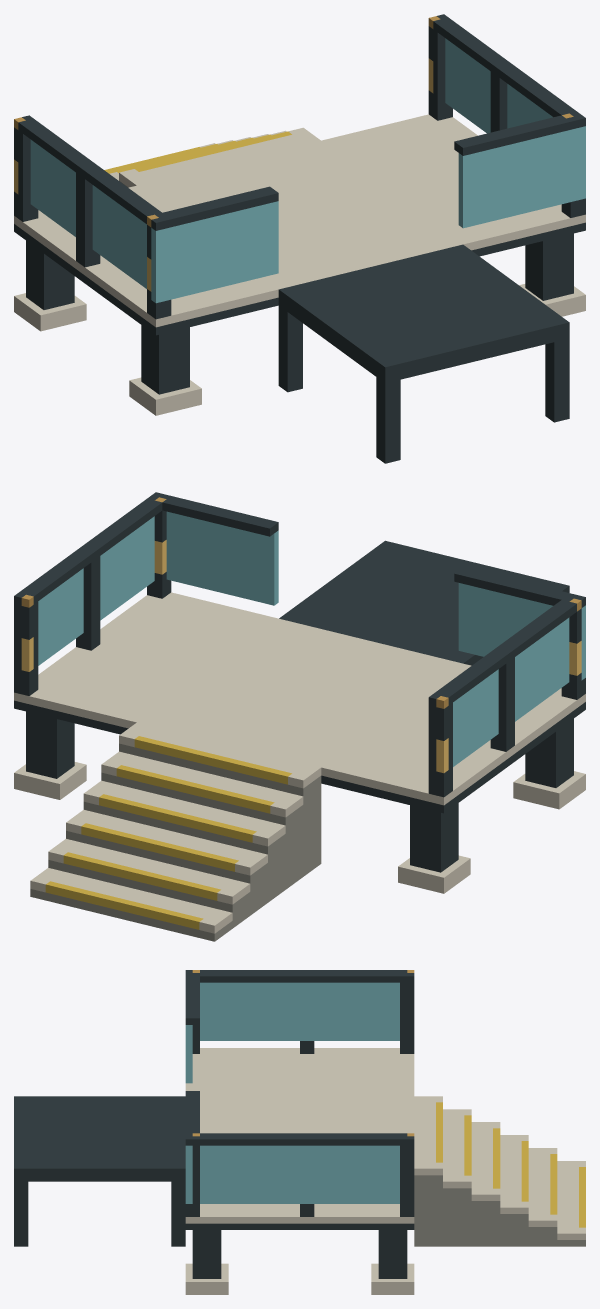
The picture shows the model from 3 angles, top to bottom: view 1: azimuth 30°, elevation 25°; view 2: azimuth 150°, elevation 25°; view 3: azimuth 270°, elevation 25°; orthographic projection. The views are drawn at different scales.
Visible parts, largest first — view 1: 星港停泊环内实际泊位接台, 明确泊位接收平台及四个承脚（辅助，无船体/Torus）; view 2: 星港停泊环内实际泊位接台, 明确泊位接收平台及四个承脚（辅助，无船体/Torus）; view 3: 星港停泊环内实际泊位接台, 明确泊位接收平台及四个承脚（辅助，无船体/Torus）.
Boxes of the visible parts, x1,y1,x2,y2 form: 星港停泊环内实际泊位接台: (14, 14, 585, 415); 明确泊位接收平台及四个承脚（辅助，无船体/Torus）: (278, 244, 569, 463); 星港停泊环内实际泊位接台: (14, 492, 585, 941); 明确泊位接收平台及四个承脚（辅助，无船体/Torus）: (279, 540, 569, 665); 星港停泊环内实际泊位接台: (185, 970, 585, 1294); 明确泊位接收平台及四个承脚（辅助，无船体/Torus）: (14, 1096, 185, 1246).
Size of the model in its own units: 5.6 by 2.4 by 8.
7 materials, 7 textured.
